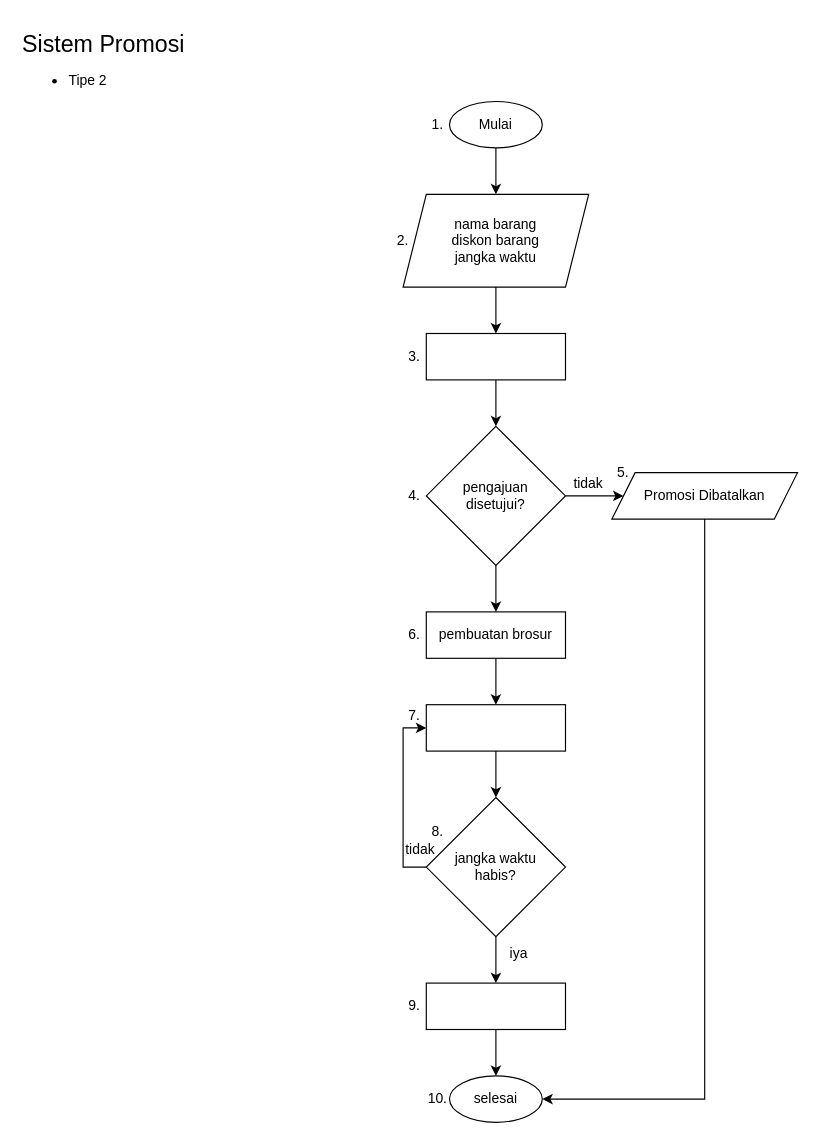
The diagram is 818 pixels wide and 1143 high, and some of its shapes have lost their labels. The shapes that lost their labels are listed below. From the top down, each one's centre as x and y in pixels, then its label:
At [495,356]: "persetujuan dari owner".
At [495,727]: "menyebar brosur".
At [495,1006]: "menormalkan kembali harga barang".
